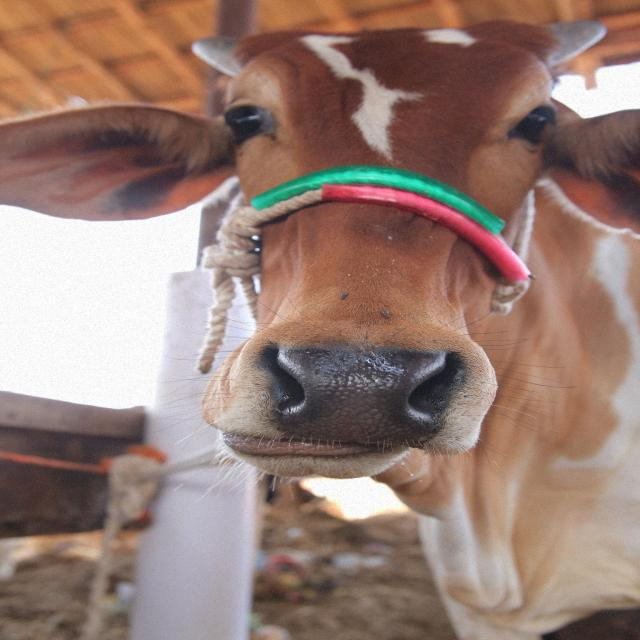muzzles: (242, 333, 476, 455)
